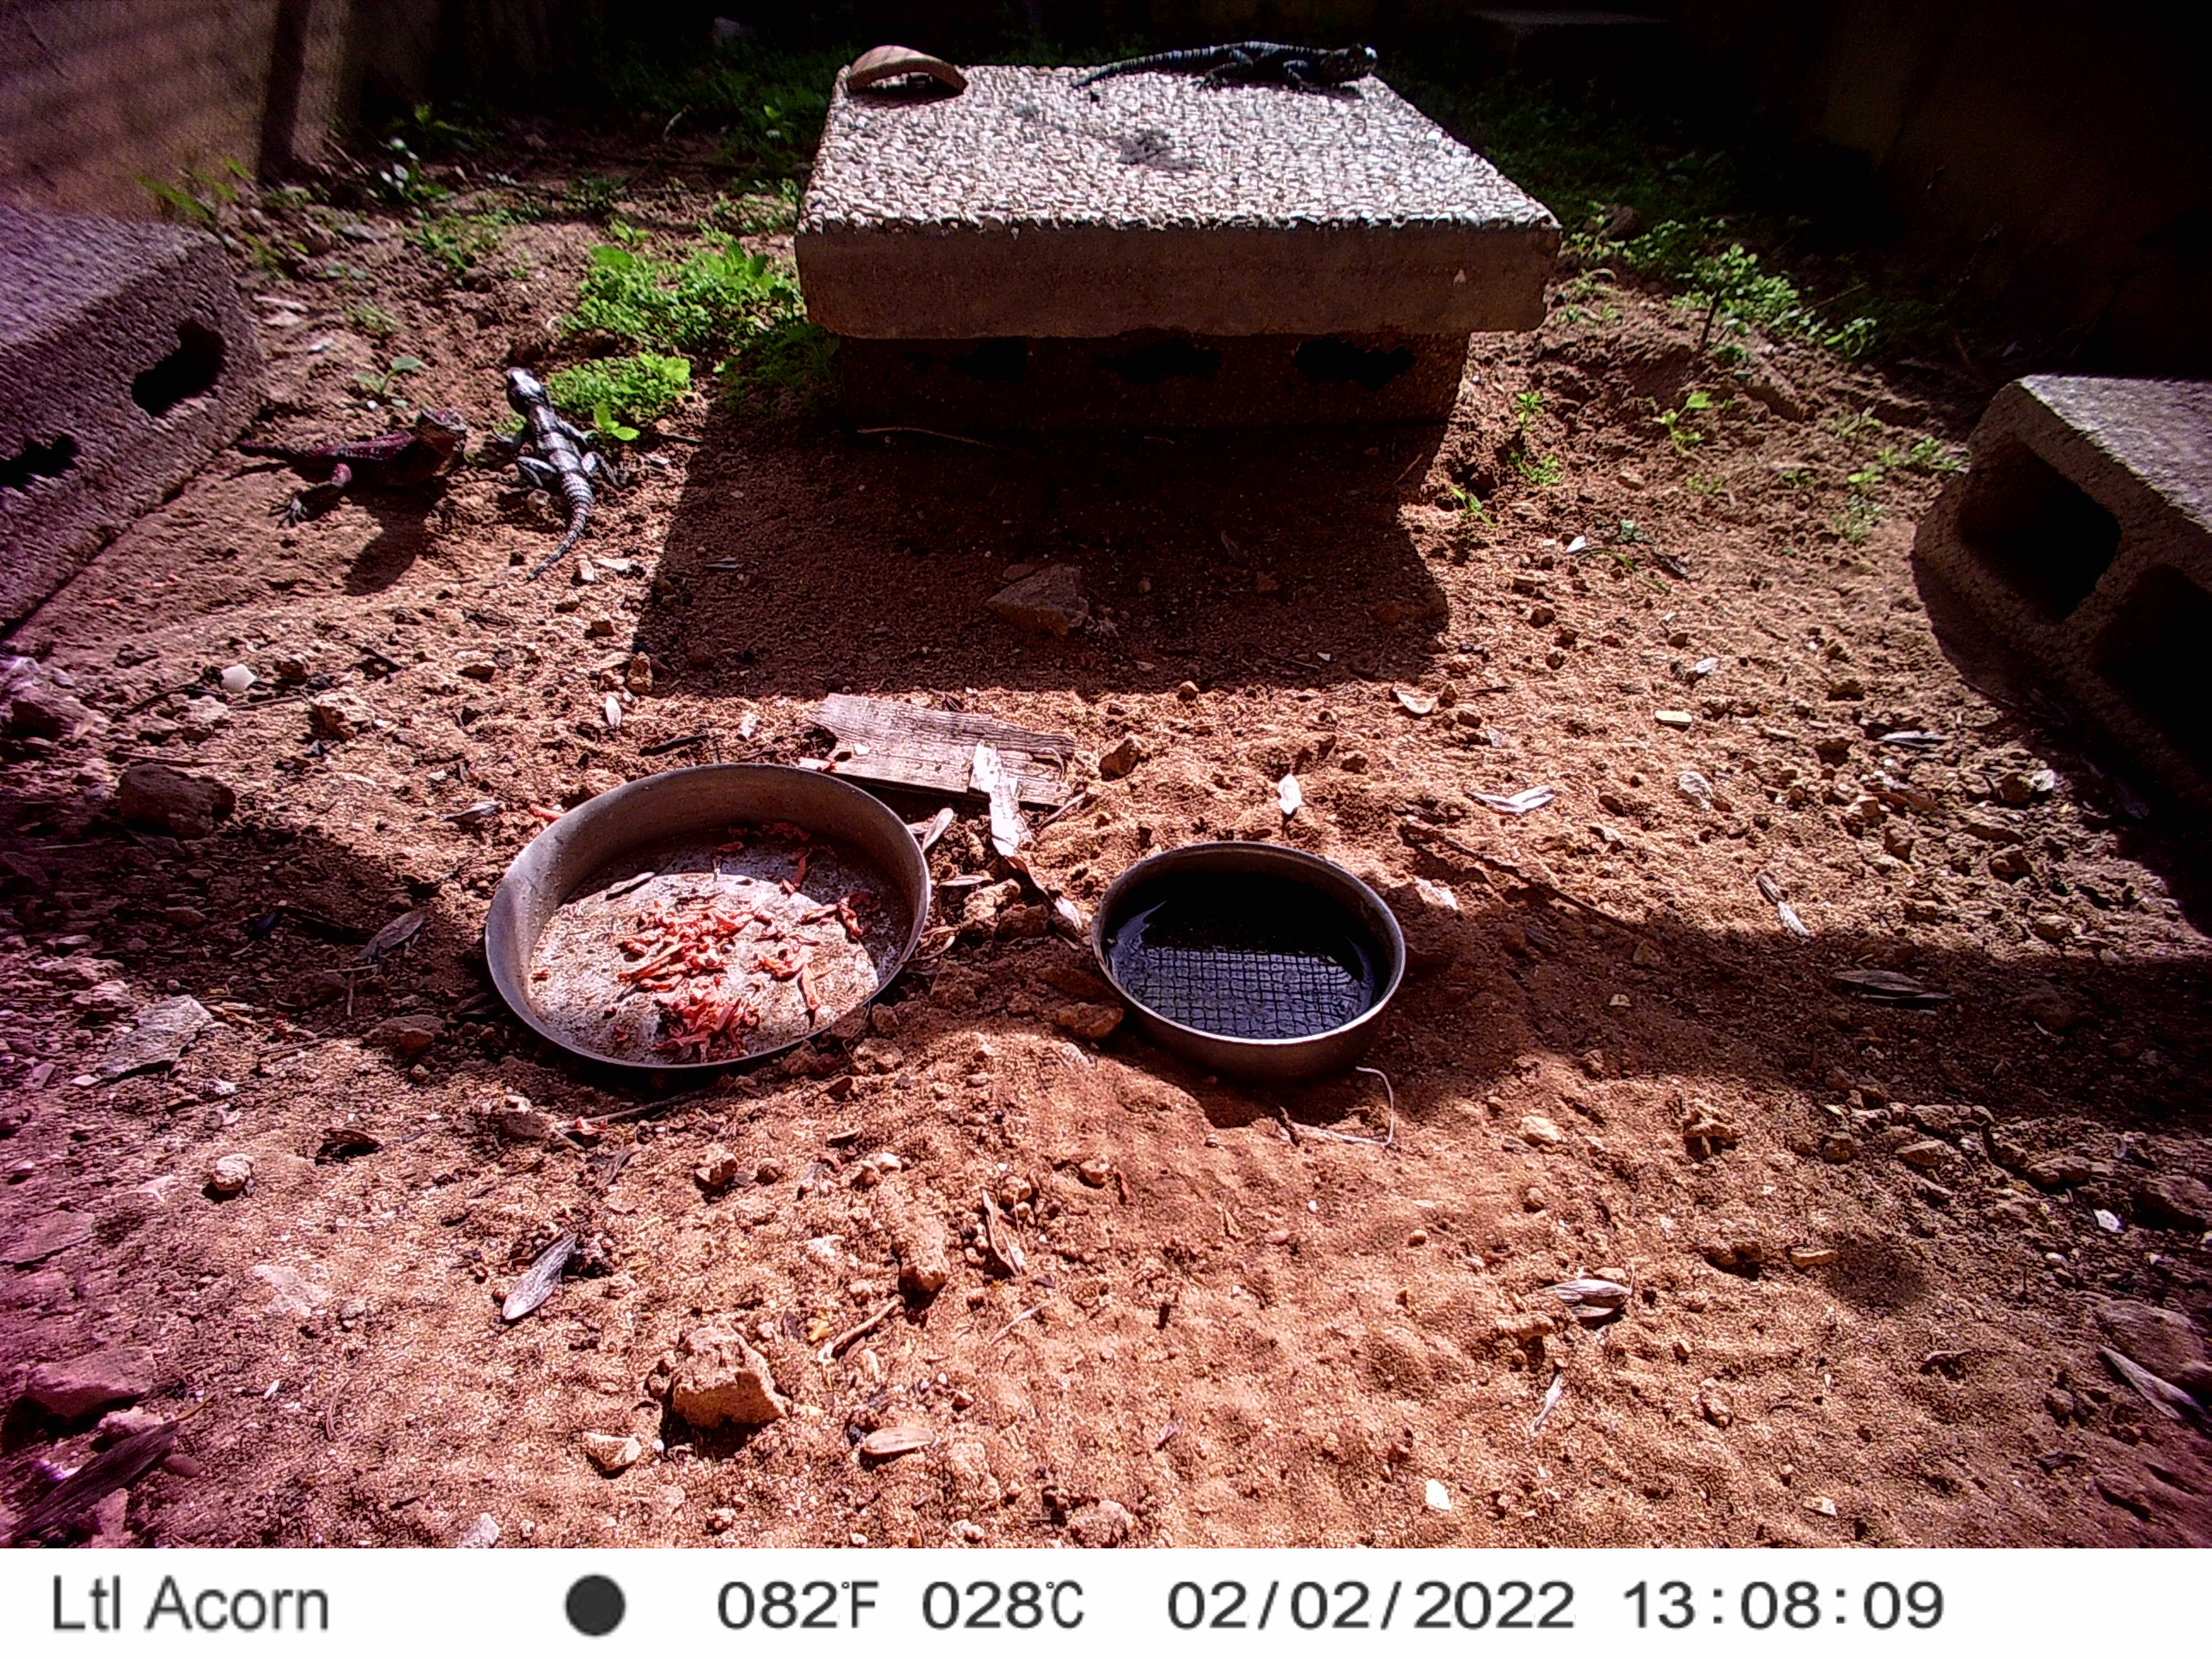lizard: (226, 399, 467, 537), (495, 369, 627, 580), (1068, 37, 1386, 101)
